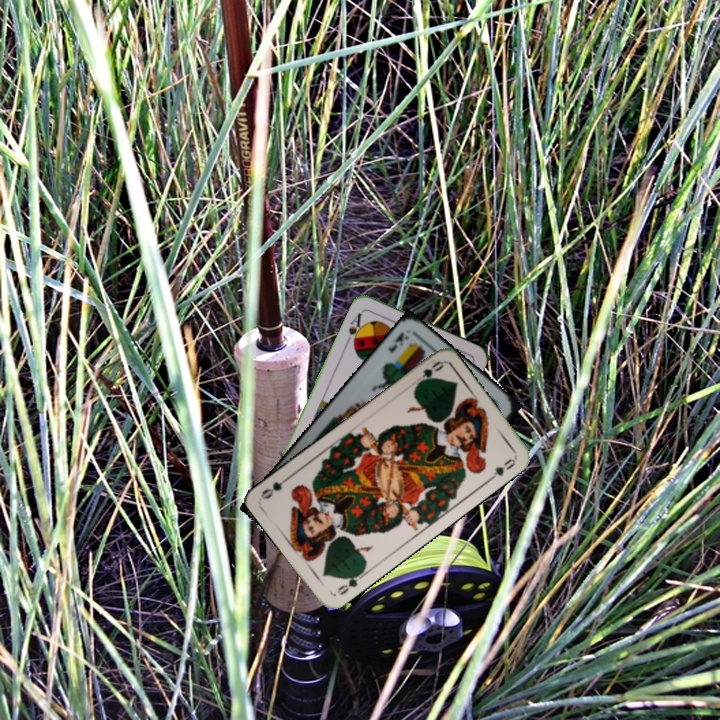EK: (383, 328, 411, 356)
GO: (412, 357, 446, 390), (333, 568, 367, 598)
SA: (343, 307, 367, 347)
